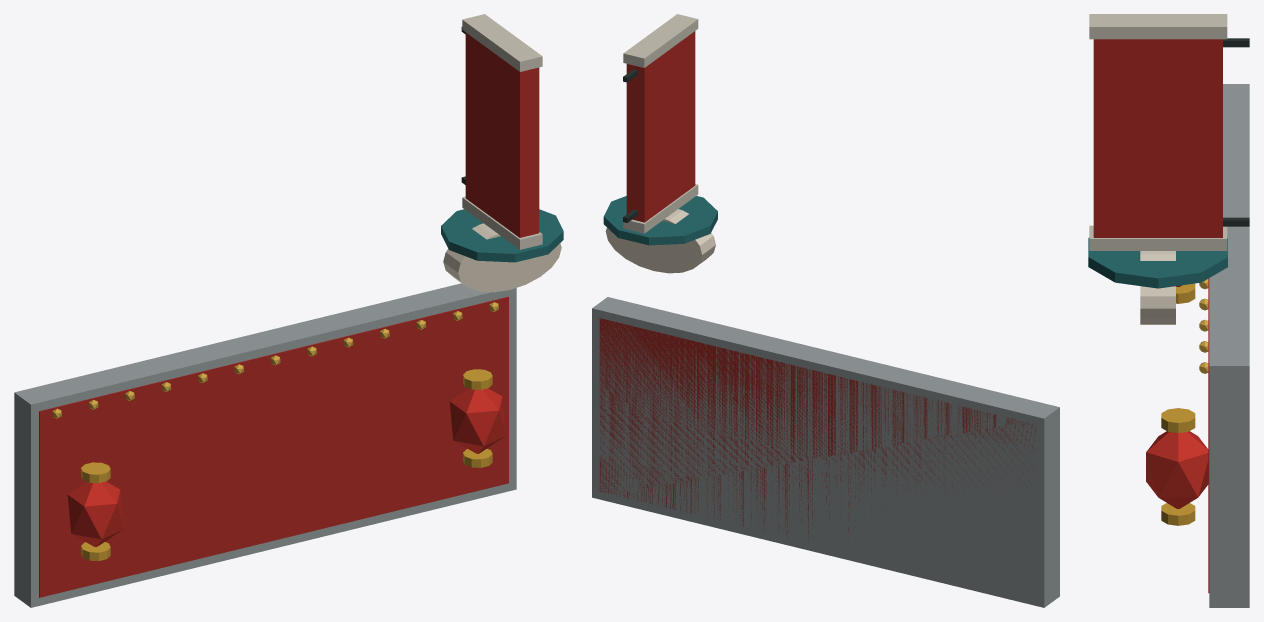
File: bang_hu_tieu_mi_nam_cuong_32.glb
3 views of the same model, side by side, from view 1: azimuth 30°, elevation 25°; view 2: azimuth 150°, elevation 25°; view 3: azimuth 270°, elevation 25° (orthographic). The views are drawn at different scales.
Visible parts, largest first — view 1: bang_hu_tieu_mi_nam_cuong_32; view 2: bang_hu_tieu_mi_nam_cuong_32; view 3: bang_hu_tieu_mi_nam_cuong_32.
Boxes of the visible parts, x1=… form: bang_hu_tieu_mi_nam_cuong_32: x1=14, y1=14, x2=563, y2=607; bang_hu_tieu_mi_nam_cuong_32: x1=592, y1=14, x2=1059, y2=607; bang_hu_tieu_mi_nam_cuong_32: x1=1088, y1=14, x2=1249, y2=607.
Size of the model in its own units: 3.11 by 2.81 by 0.7238.
